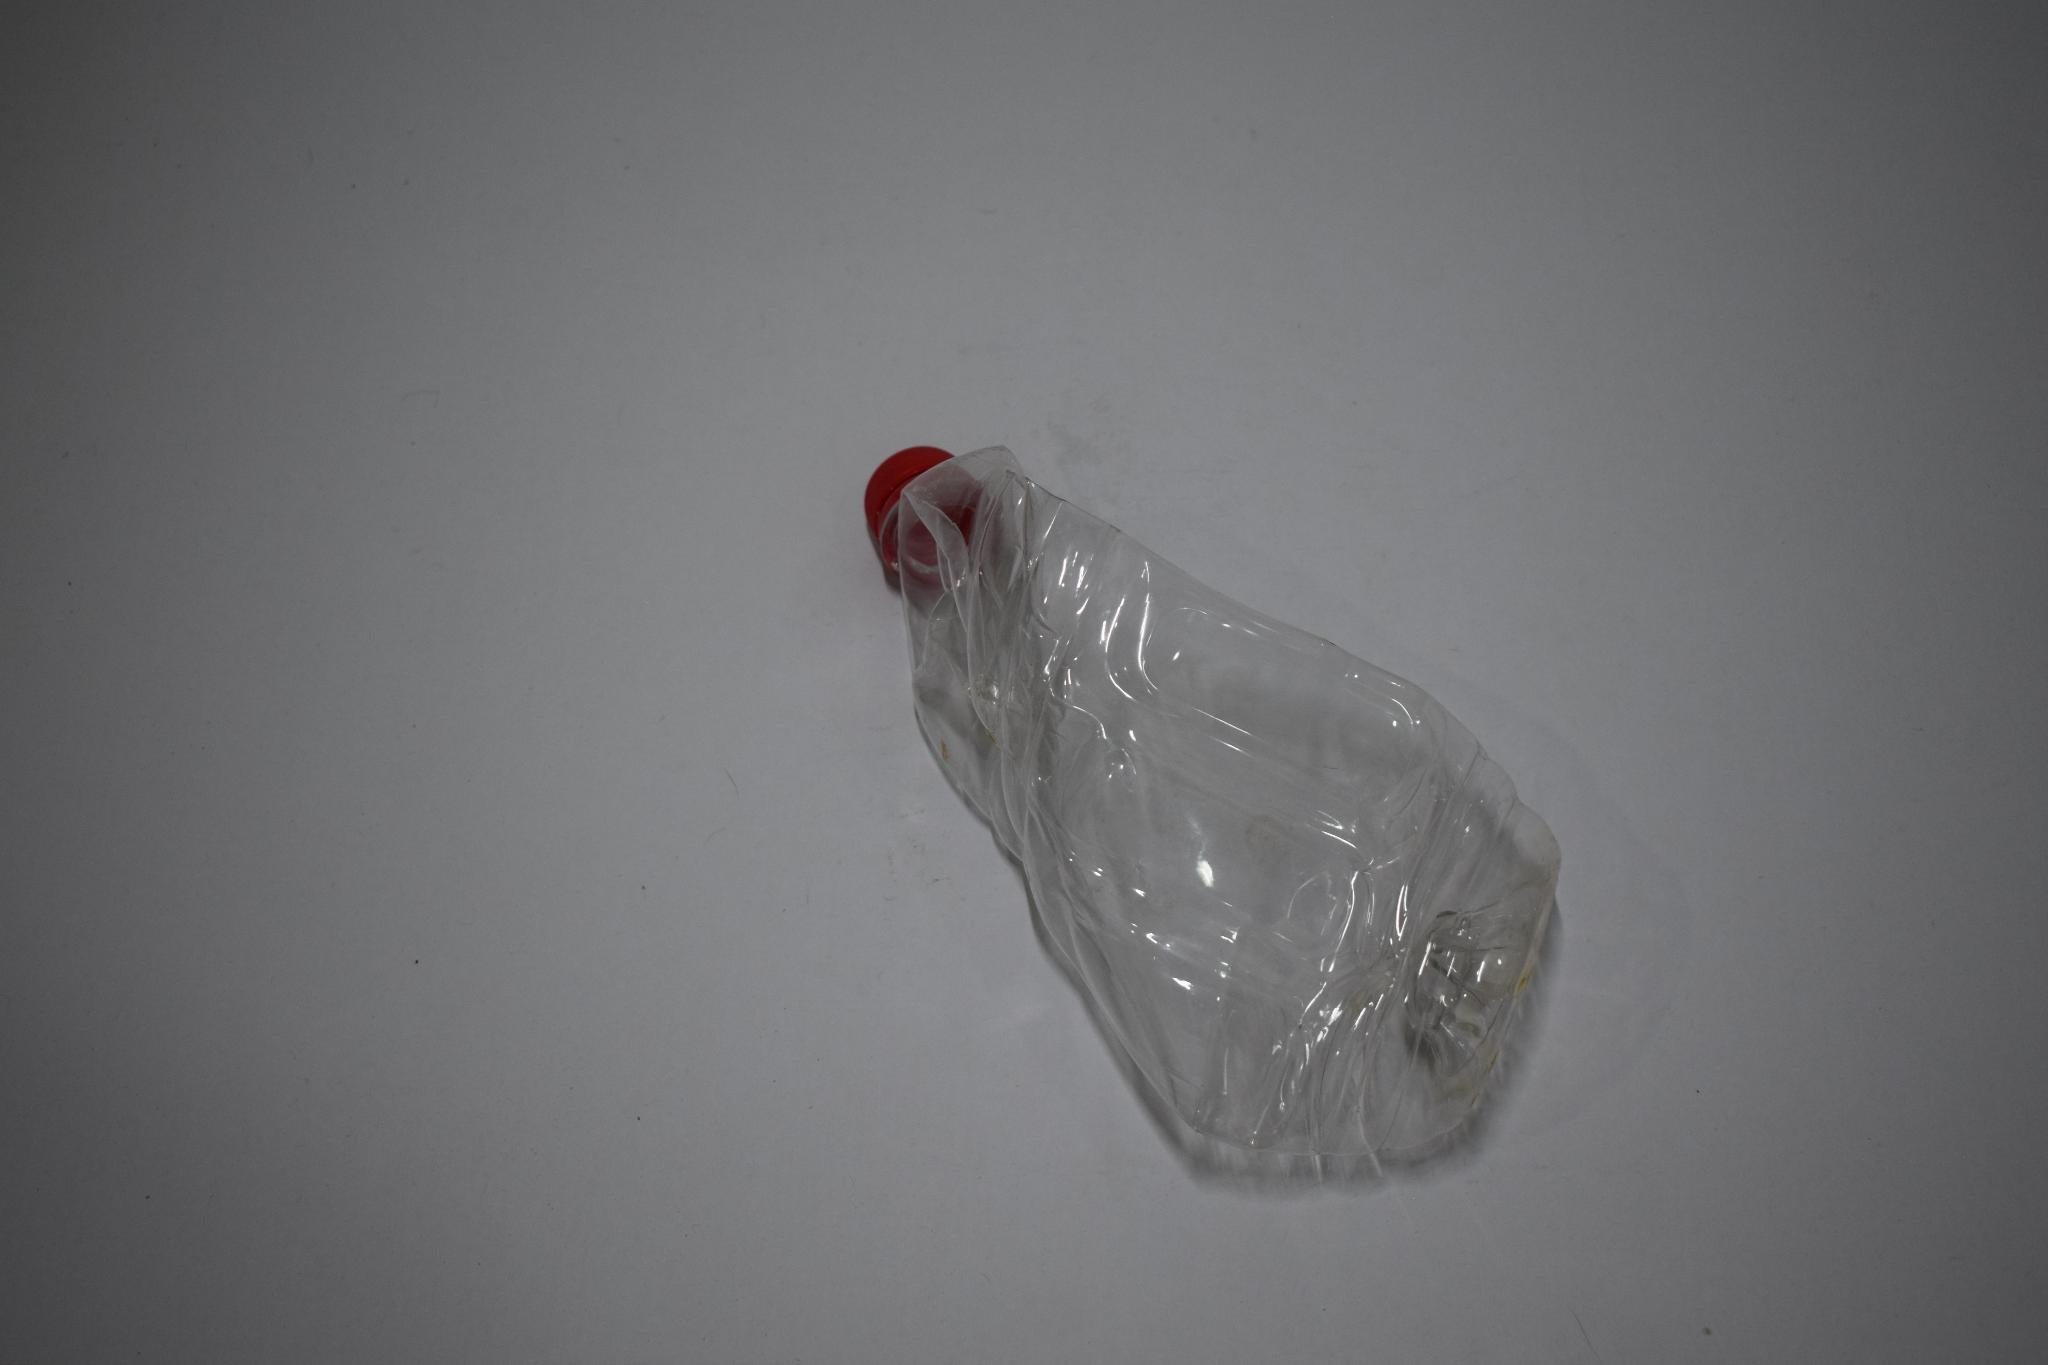bottle: (758, 437, 1714, 1194)
